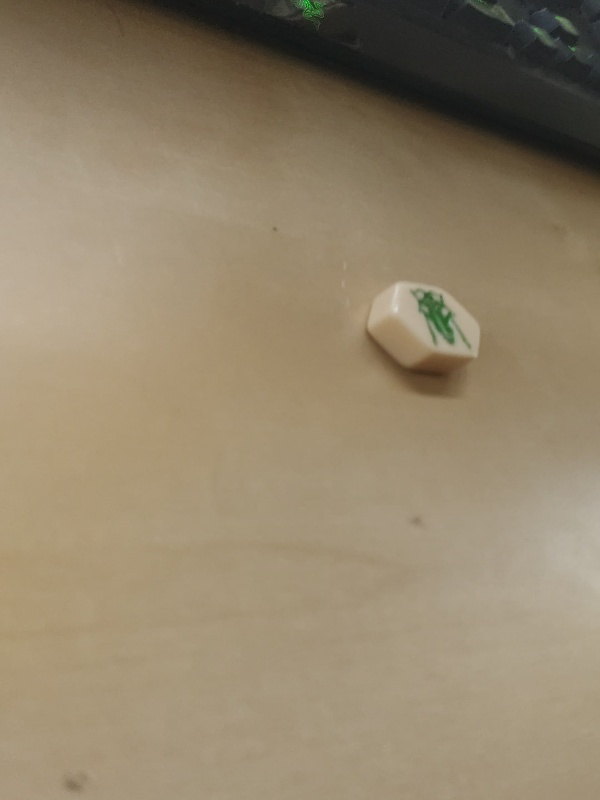white_grasshopper: (366, 281, 488, 378)
